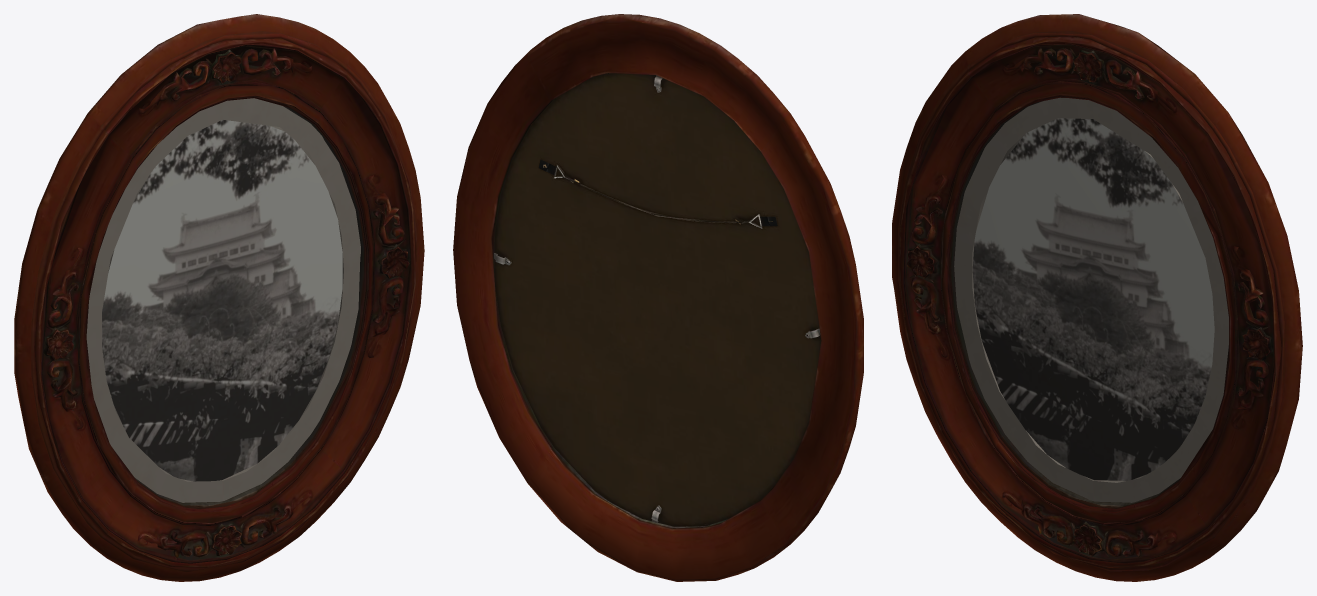
Rendered from hanging_picture_frame_03.glb.
3 renders of one model, left to right at view 1: azimuth 30°, elevation 25°; view 2: azimuth 150°, elevation 25°; view 3: azimuth 330°, elevation 25°, orthographic.
Visible parts, largest first — view 1: hanging_picture_frame_03, hanging_picture_frame_03_glass; view 2: hanging_picture_frame_03; view 3: hanging_picture_frame_03, hanging_picture_frame_03_glass.
Boxes of the visible parts, left/top/right/bottom form: hanging_picture_frame_03: left=14, top=14, right=424, bottom=581; hanging_picture_frame_03_glass: left=87, top=98, right=363, bottom=505; hanging_picture_frame_03: left=453, top=14, right=863, bottom=581; hanging_picture_frame_03: left=892, top=14, right=1302, bottom=581; hanging_picture_frame_03_glass: left=951, top=98, right=1228, bottom=505.
Size of the model in its own units: 0.3838 by 0.502 by 0.0317.
3 materials, 2 textured.
